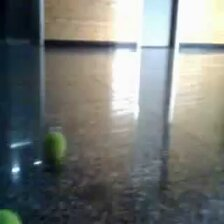tennis: (42, 134, 67, 164)
